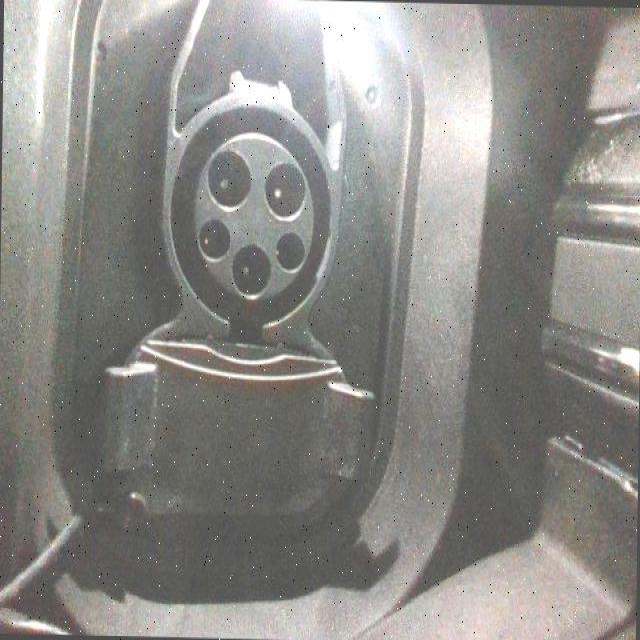Type 1: (152, 110, 346, 331)
